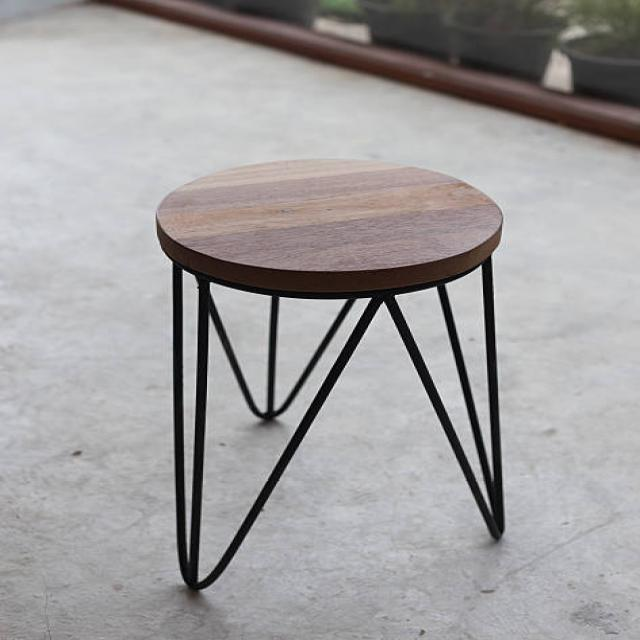table: (155, 157, 508, 591)
